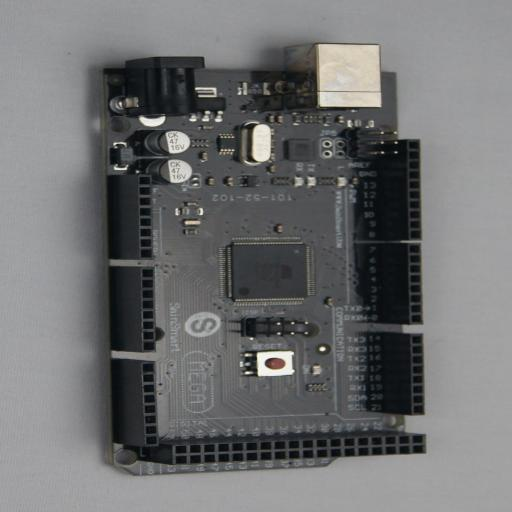ARMCORTEXM7: (83, 42, 426, 476)
